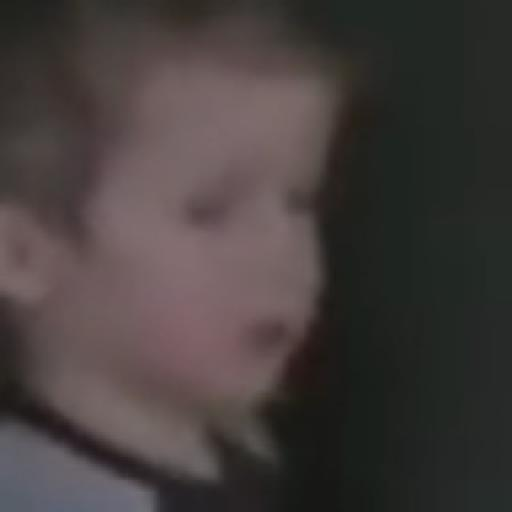Autism: (38, 26, 376, 467)
